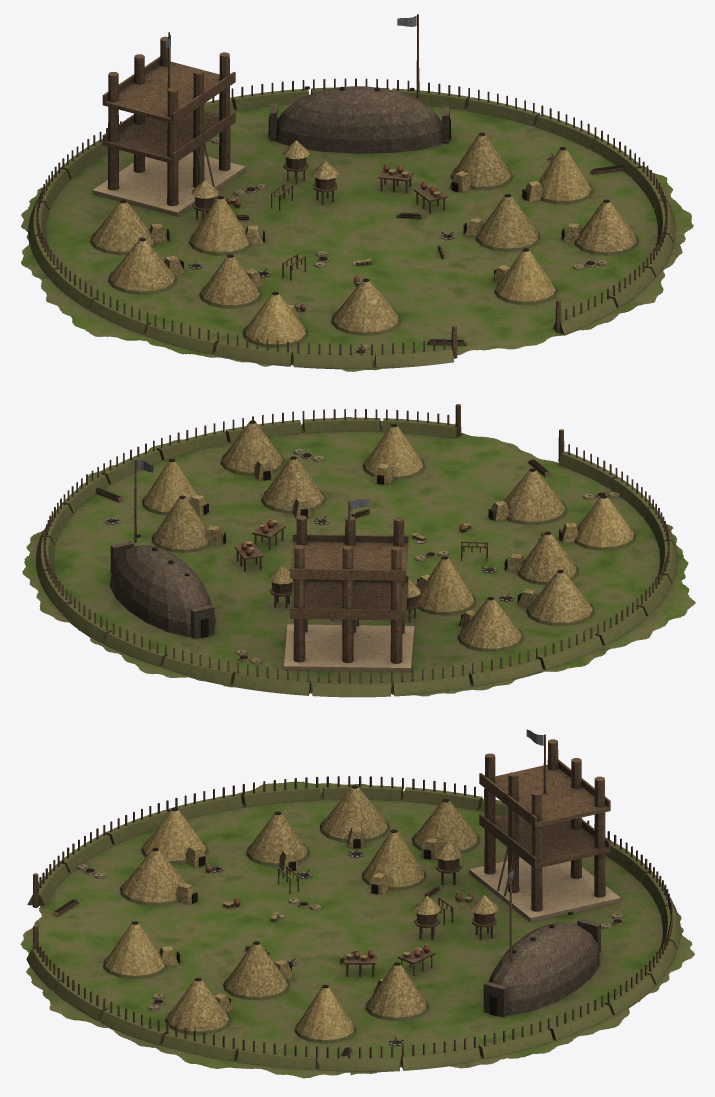
Rendered from stone-town-medium-a-japan.glb.
3 renders of one model, top to bottom at view 1: azimuth 30°, elevation 25°; view 2: azimuth 150°, elevation 25°; view 3: azimuth 270°, elevation 25°, orthographic. The views are drawn at different scales.
Visible parts, largest first — view 1: LOD0; view 2: LOD0; view 3: LOD0.
Boxes of the visible parts, box(x1,y1,x2,y2) form: LOD0: box(21, 14, 693, 371); LOD0: box(22, 404, 695, 697); LOD0: box(20, 729, 694, 1078).
Size of what is drawn, in the model's own units: 6.04 by 1.45 by 5.78.
3 materials, 3 textured.
